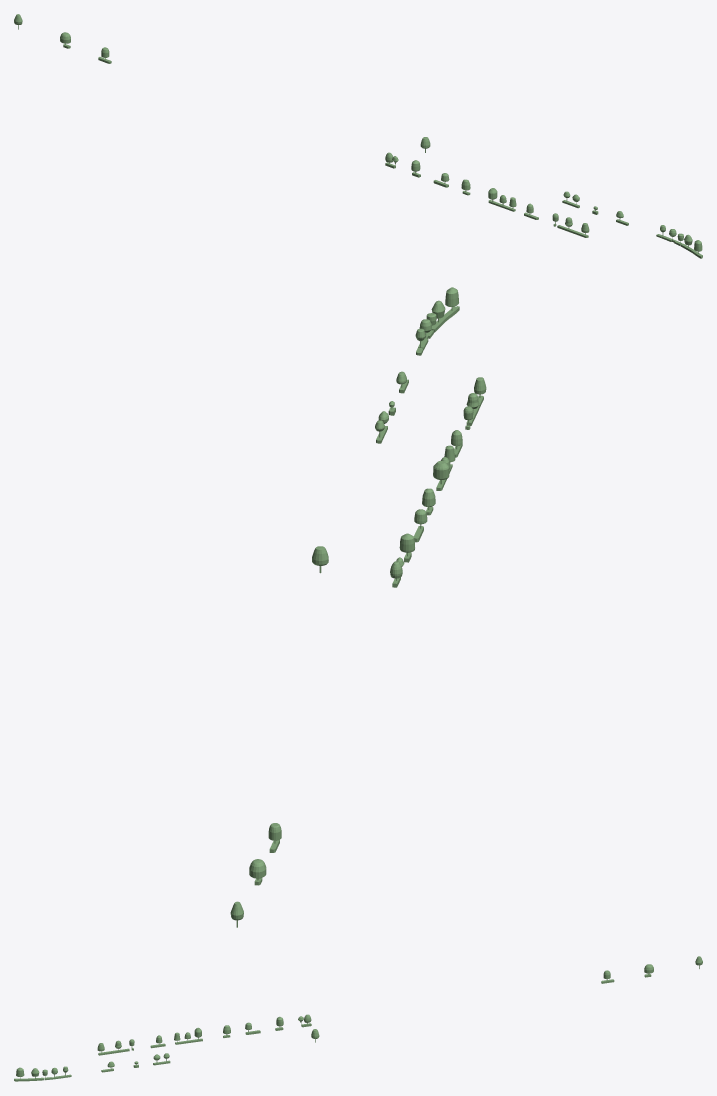
File: port-veg-packed.glb
3 views of the same model, one above another, from view 1: azimuth 30°, elevation 25°; view 2: azimuth 150°, elevation 25°; view 3: azimuth 270°, elevation 25° (orthographic). The views are drawn at different scales.
Size of the model in its own units: 98.2 by 5.8 by 246.
